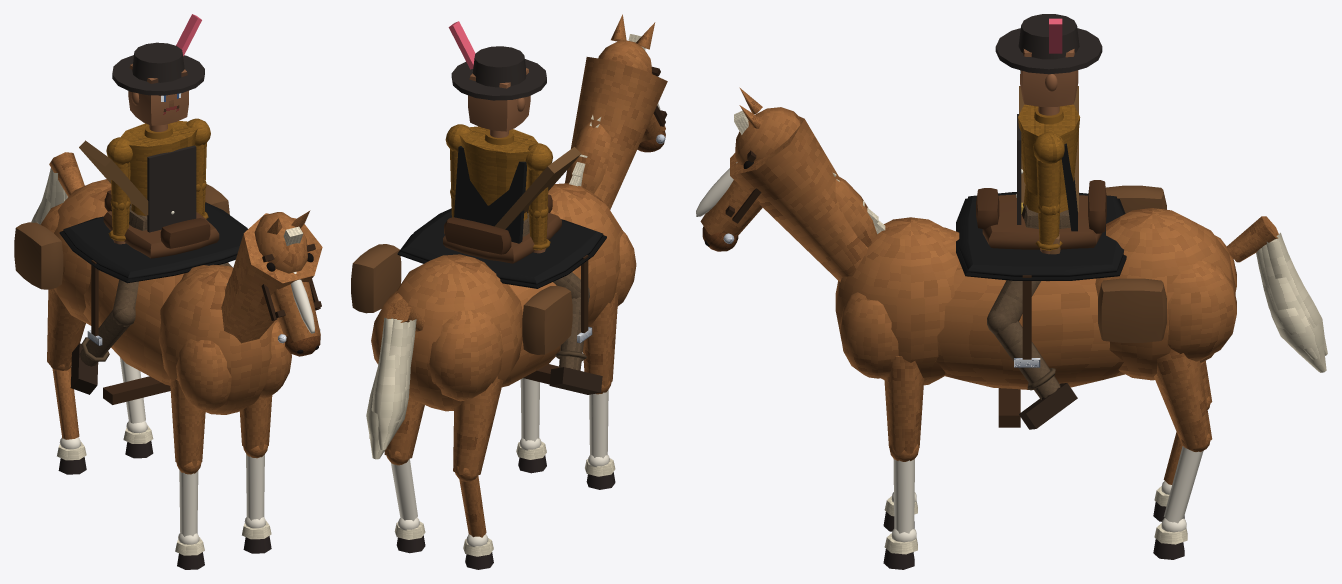
File: jinete.glb
3 views of the same model, side by side, from view 1: azimuth 30°, elevation 25°; view 2: azimuth 150°, elevation 25°; view 3: azimuth 270°, elevation 25° (orthographic). The views are drawn at different scales.
Parts seen in each view (by area): view 1: jinete, object 2, object 83, object 59, object 77, object 40, object 28, object 11, object 105, object 106, object 102, object 12 (+25 smaller); view 2: jinete, object 2, object 77, object 28, object 59, object 108, object 62, object 55, object 40, object 105, object 106, object 3 (+19 smaller); view 3: jinete, object 2, object 62, object 34, object 46, object 77, object 105, object 53, object 11, object 106, object 102, object 12 (+13 smaller).
Boxes of the visible parts, <box> form: jinete: <box>40,179,291,414</box>; object 2: <box>221,213,322,343</box>; object 83: <box>147,145,196,232</box>; object 59: <box>14,222,63,289</box>; object 77: <box>121,121,197,199</box>; object 40: <box>170,379,205,466</box>; object 28: <box>47,288,85,370</box>; object 11: <box>254,212,307,273</box>; object 105: <box>112,55,204,95</box>; object 106: <box>132,42,184,82</box>; object 102: <box>128,64,188,125</box>; object 12: <box>271,281,320,341</box>; jinete: <box>371,183,636,411</box>; object 2: <box>565,57,667,209</box>; object 77: <box>459,126,537,205</box>; object 28: <box>453,376,503,476</box>; object 59: <box>522,285,572,354</box>; object 108: <box>454,146,526,243</box>; object 62: <box>351,244,401,313</box>; object 55: <box>371,317,406,449</box>; object 40: <box>583,292,618,386</box>; object 105: <box>451,59,546,100</box>; object 106: <box>472,46,526,87</box>; object 3: <box>567,122,610,193</box>; jinete: <box>835,180,1236,427</box>; object 2: <box>730,116,867,282</box>; object 62: <box>1098,278,1166,342</box>; object 34: <box>1154,349,1212,449</box>; object 46: <box>884,356,924,453</box>; object 77: <box>1018,104,1080,195</box>; object 105: <box>995,28,1102,74</box>; object 53: <box>1261,232,1326,372</box>; object 11: <box>735,107,800,165</box>; object 106: <box>1018,14,1079,59</box>; object 102: <box>1020,49,1078,106</box>; object 12: <box>700,180,762,235</box>.
Bounding box in the file's own units: 1.15 × 2.76 × 2.88.
32 materials, 8 textured.
